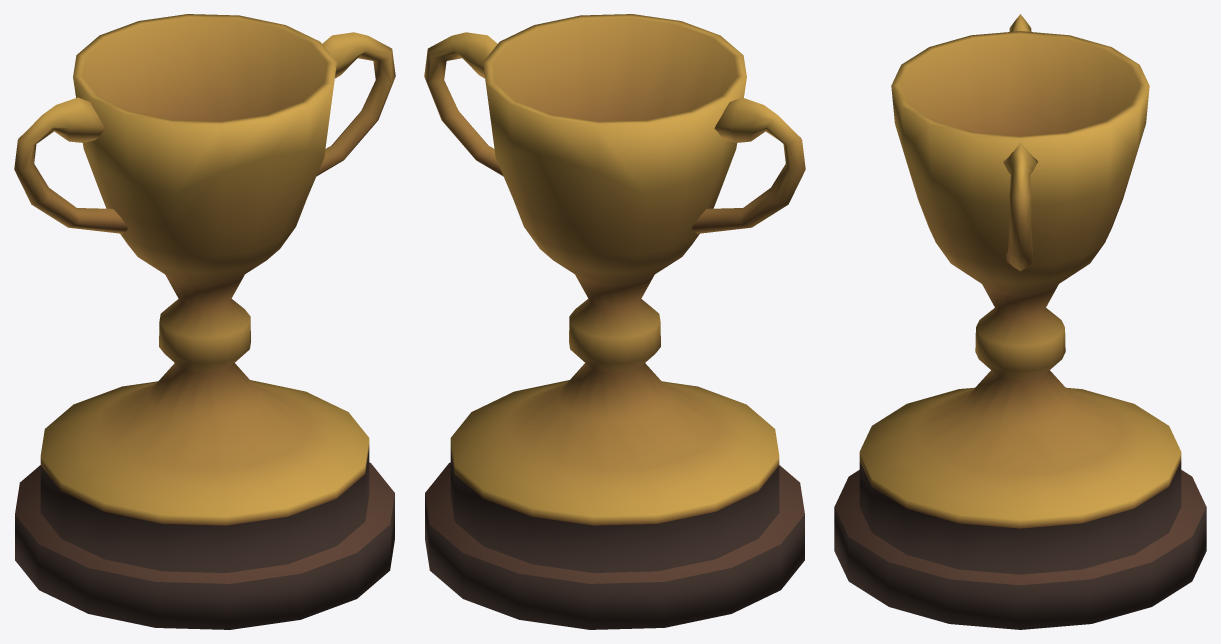
File: furnishings-indoor-trophy_v1.glb
The picture shows the model from 3 angles, left to right: view 1: azimuth 30°, elevation 25°; view 2: azimuth 150°, elevation 25°; view 3: azimuth 270°, elevation 25°; orthographic projection. The views are drawn at different scales.
Parts seen in each view (by area): view 1: Trophy_refl, Trophy_base; view 2: Trophy_refl, Trophy_base; view 3: Trophy_refl, Trophy_base.
Boxes of the visible parts, bbox=[...] form: Trophy_refl: bbox=[14, 14, 395, 525]; Trophy_base: bbox=[15, 449, 394, 629]; Trophy_refl: bbox=[424, 14, 805, 525]; Trophy_base: bbox=[425, 449, 804, 629]; Trophy_refl: bbox=[859, 14, 1181, 528]; Trophy_base: bbox=[834, 461, 1206, 629].
Bounding box in the file's own units: 0.4061 × 0.4916 × 0.3534.
